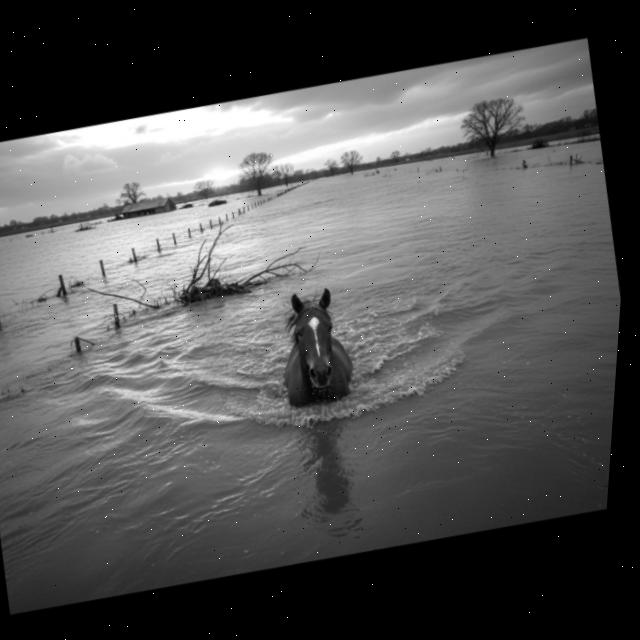horse: (249, 272, 382, 428)
